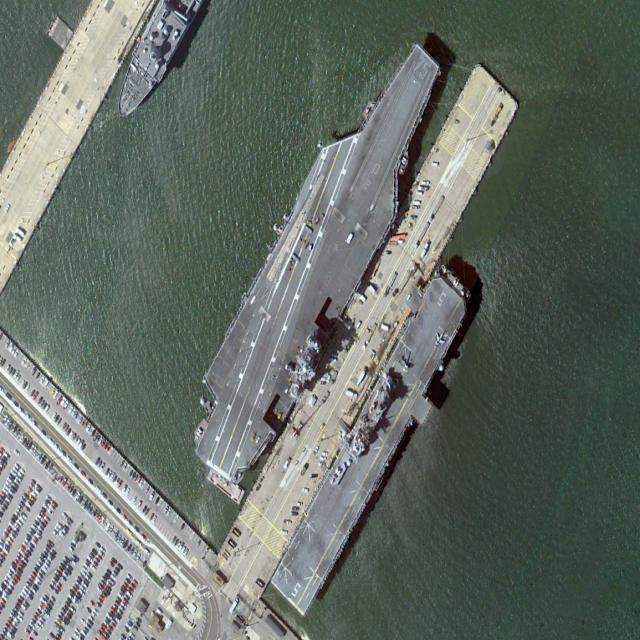Aircraft Carrier: (173, 13, 464, 507)
Dock: (221, 61, 517, 596)
Landing: (263, 248, 485, 630)
